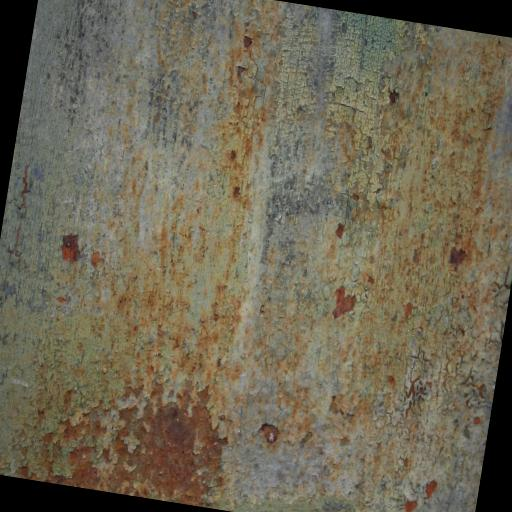segmentation: (33, 361, 237, 508), (328, 285, 358, 322), (442, 243, 468, 271), (59, 232, 81, 263), (255, 420, 281, 446), (422, 478, 437, 499), (406, 380, 417, 398), (232, 63, 246, 77), (334, 222, 344, 239), (388, 91, 398, 105), (404, 501, 416, 512), (242, 35, 252, 48), (387, 374, 395, 389)
